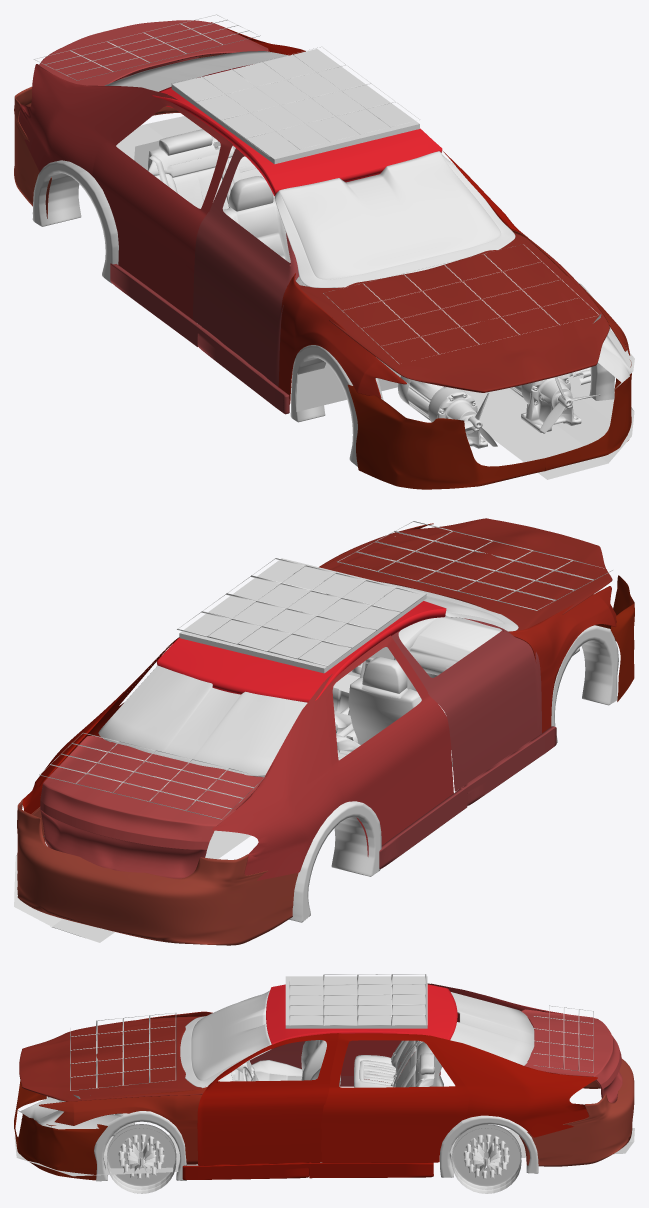
The model's file is UPR.glb.
The picture shows the model from 3 angles, top to bottom: view 1: azimuth 30°, elevation 25°; view 2: azimuth 150°, elevation 25°; view 3: azimuth 270°, elevation 25°; orthographic projection. The views are drawn at different scales.
Parts seen in each view (by area): view 1: car1 - Copy.001, car1 - Copy.007, car1 - Copy.014, car1 - Copy.015, Cube, car1 - Copy.003, car1 - Copy.012, Plane.001, uploads_files_252738_3d-model.stl, car1 - Copy.008, car1 - Copy.020, car1 - Copy.017 (+11 smaller); view 2: car1 - Copy.014, car1 - Copy.012, car1 - Copy.011, car1 - Copy.001, car1 - Copy.015, Cube, car1 - Copy.013, uploads_files_252738_3d-model.stl, car1 - Copy.008, car1 - Copy.017, car1 - Copy.020, car1 - Copy.019 (+7 smaller); view 3: car1 - Copy.009, car1 - Copy.006, car1 - Copy.001, Cube, car1 - Copy.012, car1 - Copy.007, uploads_files_252738_3d-model.stl, car1 - Copy.011, car1 - Copy.003, car1 - Copy.005, car1 - Copy.013, car1 - Copy.004 (+11 smaller).
Part boxes in pixels (left/top/right/bottom): car1 - Copy.001: left=295, top=233, right=609, bottom=392; car1 - Copy.007: left=275, top=151, right=515, bottom=287; car1 - Copy.014: left=18, top=64, right=233, bottom=320; car1 - Copy.015: left=110, top=148, right=298, bottom=414; Cube: left=171, top=49, right=419, bottom=164; car1 - Copy.003: left=347, top=327, right=631, bottom=489; car1 - Copy.012: left=38, top=20, right=268, bottom=85; Plane.001: left=116, top=116, right=634, bottom=479; uploads_files_252738_3d-model.stl: left=147, top=129, right=308, bottom=286; car1 - Copy.008: left=152, top=64, right=442, bottom=196; car1 - Copy.020: left=278, top=273, right=406, bottom=404; car1 - Copy.017: left=32, top=160, right=118, bottom=283; car1 - Copy.014: left=212, top=635, right=453, bottom=880; car1 - Copy.012: left=40, top=736, right=263, bottom=878; car1 - Copy.011: left=17, top=799, right=298, bottom=945; car1 - Copy.001: left=319, top=518, right=612, bottom=630; car1 - Copy.015: left=379, top=616, right=556, bottom=868; Cube: left=179, top=558, right=426, bottom=673; car1 - Copy.013: left=98, top=665, right=307, bottom=776; uploads_files_252738_3d-model.stl: left=260, top=616, right=508, bottom=777; car1 - Copy.008: left=156, top=601, right=446, bottom=702; car1 - Copy.017: left=289, top=801, right=381, bottom=922; car1 - Copy.020: left=508, top=586, right=616, bottom=732; car1 - Copy.019: left=551, top=625, right=618, bottom=742; car1 - Copy.009: left=321, top=1033, right=597, bottom=1162; car1 - Copy.006: left=182, top=1033, right=433, bottom=1179; car1 - Copy.001: left=19, top=1016, right=203, bottom=1101; Cube: left=285, top=976, right=427, bottom=1028; car1 - Copy.012: left=521, top=1009, right=622, bottom=1102; car1 - Copy.007: left=180, top=990, right=271, bottom=1087; uploads_files_252738_3d-model.stl: left=201, top=1040, right=434, bottom=1087; car1 - Copy.011: left=519, top=1058, right=634, bottom=1166; car1 - Copy.003: left=14, top=1081, right=107, bottom=1180; car1 - Copy.005: left=452, top=1124, right=521, bottom=1193; car1 - Copy.013: left=450, top=992, right=534, bottom=1065; car1 - Copy.004: left=39, top=1087, right=207, bottom=1164.
Bounding box in the file's own units: 4.62 × 3.53 × 13.35.
